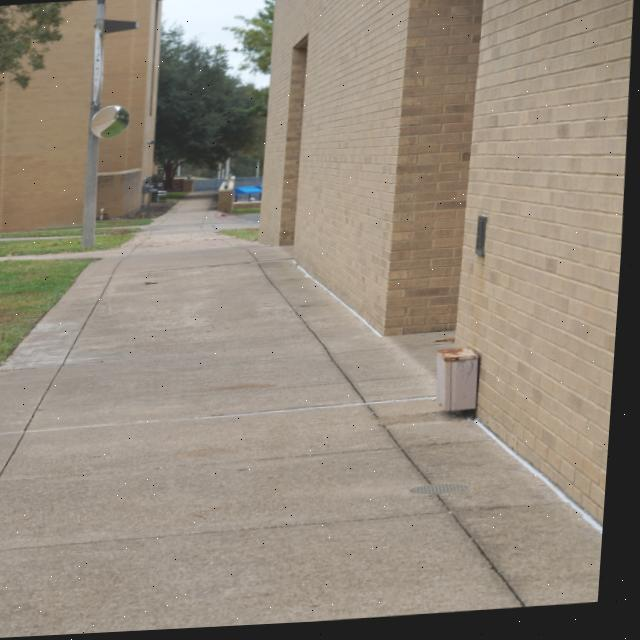Obstacle: (441, 353, 485, 417)
Sidewalk: (0, 201, 610, 639), (0, 250, 118, 261), (0, 236, 82, 242)
